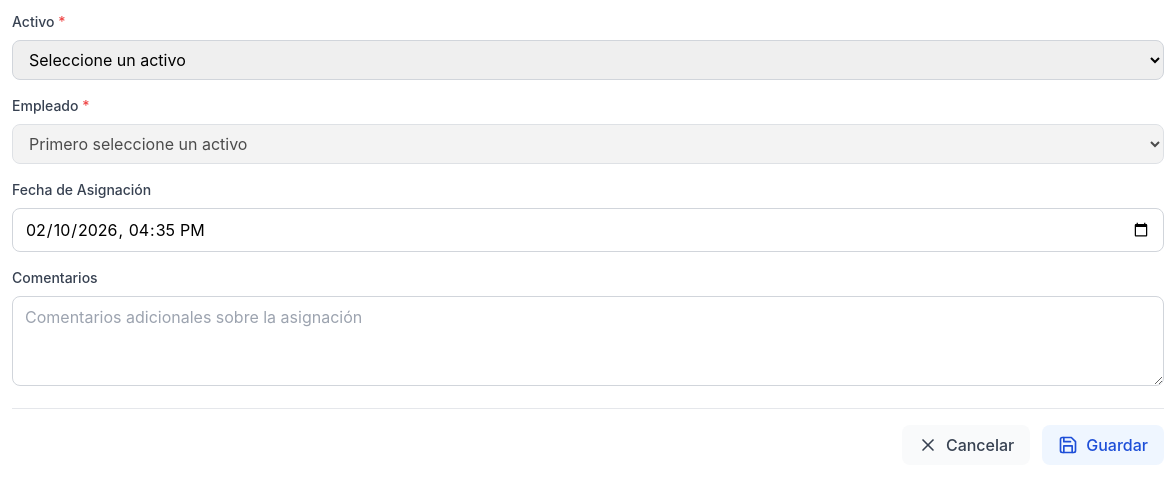
it: AssignmentForm › enables employee select after choosing asset
The width and height of the screenshot is (1176, 482).
expect the dropdown labelled "Empleado *" is disabled: met, box [12,124,1164,164]
Step 1. Select "A-1 - Dell XPS (Sin sede)" in the dropdown labelled "Activo *" → (588, 60), box [12,40,1164,80]
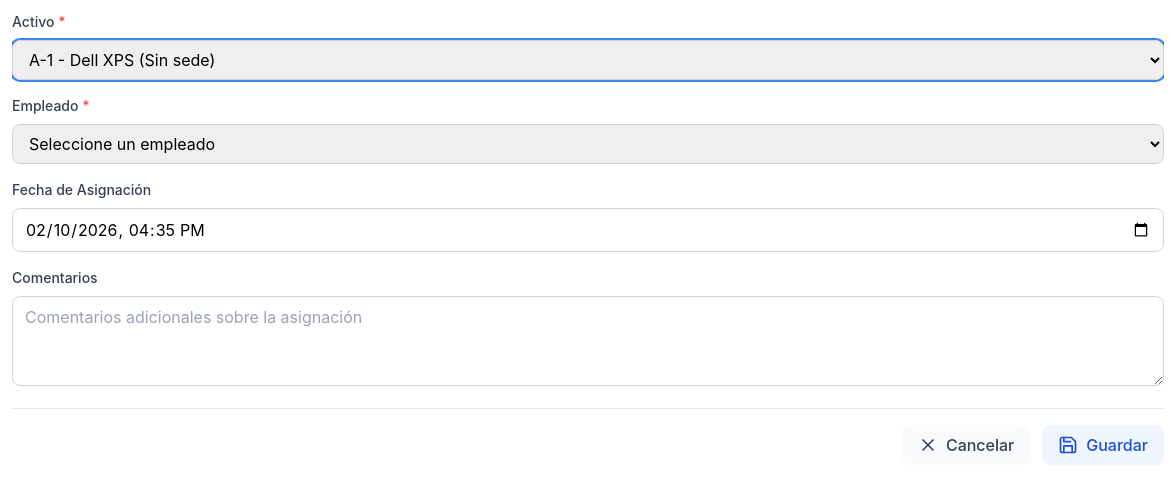
expect the dropdown labelled "Empleado *" is enabled: met, box [12,124,1164,164]
